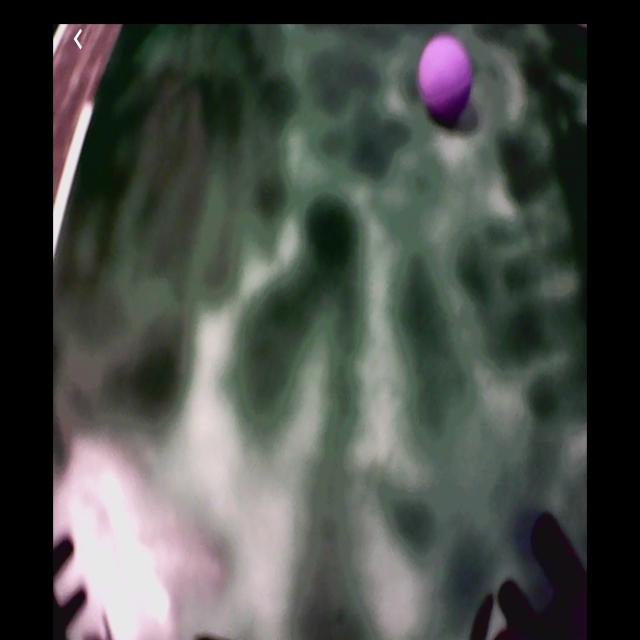ball: (419, 35, 472, 123)
